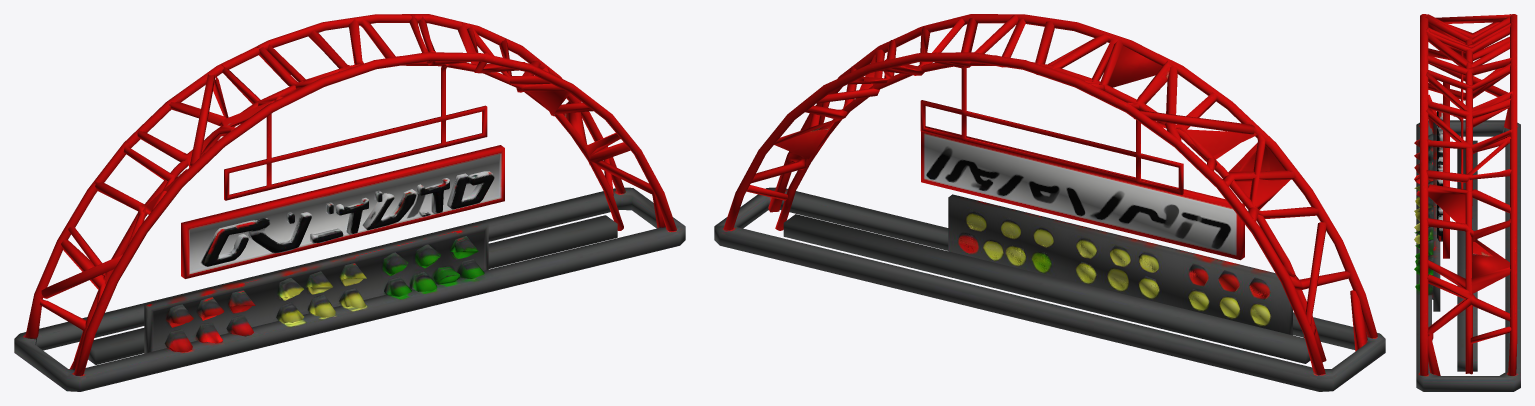
The model's file is selected.glb.
3 views of the same model, side by side, from view 1: azimuth 30°, elevation 25°; view 2: azimuth 150°, elevation 25°; view 3: azimuth 270°, elevation 25° (orthographic). The views are drawn at different scales.
Parts seen in each view (by area): view 1: tripo_node_91ebd191-84d7-4ed5-b4b9-64103eedabf2; view 2: tripo_node_91ebd191-84d7-4ed5-b4b9-64103eedabf2; view 3: tripo_node_91ebd191-84d7-4ed5-b4b9-64103eedabf2.
Boxes of the visible parts, box(x1,y1,x2,y2) form: tripo_node_91ebd191-84d7-4ed5-b4b9-64103eedabf2: box(14, 14, 685, 391); tripo_node_91ebd191-84d7-4ed5-b4b9-64103eedabf2: box(714, 14, 1385, 391); tripo_node_91ebd191-84d7-4ed5-b4b9-64103eedabf2: box(1414, 14, 1520, 391).
Size of the model in its own units: 0.998 by 0.3926 by 0.1738.
1 material, 1 textured.
